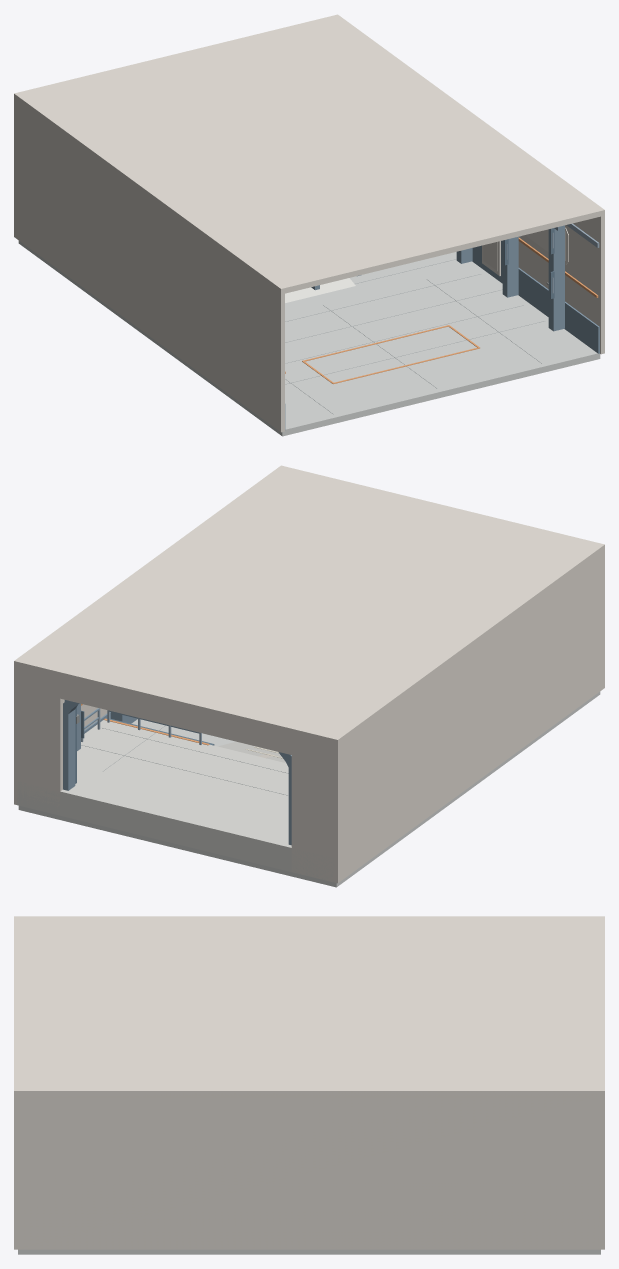
The model's file is Taller_NASA_v02.glb.
3 renders of one model, top to bottom at view 1: azimuth 30°, elevation 25°; view 2: azimuth 150°, elevation 25°; view 3: azimuth 270°, elevation 25°, orthographic. The views are drawn at different scales.
Visible parts, largest first — view 1: Cubierta_Superior.006, Muro_Funcional_IZQ.006, Piso_01_Losa_Inferior_Continua.005, Muro_Funcional_DER.006, Zocalo_Industrial_DER.006, Pórtico_Azul_Redondeado_1.006, Pórtico_Azul_Redondeado_2.006, Rampa_Principal_Meshy.004; view 2: Cubierta_Superior.006, Muro_Funcional_IZQ.006, Piso_02_Plataforma_Superior_Maciza.005, Machón_Portón_IZQ.006, Machón_Portón_DER.006, Muro_Sobre_Portón.006, Piso_01_Losa_Inferior_Continua.005, Marco_Portón_Chaflanes_Redondeados.006; view 3: Cubierta_Superior.006, Muro_Funcional_DER.006, Piso_01_Losa_Inferior_Continua.005, Machón_Portón_DER.006.
Part boxes in pixels (x1,y1,x2,y2): Cubierta_Superior.006: (14,14,604,294); Muro_Funcional_IZQ.006: (14,98,284,432); Piso_01_Losa_Inferior_Continua.005: (18,240,600,436); Muro_Funcional_DER.006: (518,213,604,354); Zocalo_Industrial_DER.006: (472,246,599,353); Pórtico_Azul_Redondeado_1.006: (548,225,564,331); Pórtico_Azul_Redondeado_2.006: (502,237,518,297); Rampa_Principal_Meshy.004: (285,278,355,302); Cubierta_Superior.006: (14,465,604,745); Muro_Funcional_IZQ.006: (334,548,604,882); Piso_02_Plataforma_Superior_Maciza.005: (17,720,333,881); Machón_Portón_IZQ.006: (291,732,340,883); Machón_Portón_DER.006: (14,664,63,813); Muro_Sobre_Portón.006: (60,676,291,754); Piso_01_Losa_Inferior_Continua.005: (18,691,600,887); Marco_Portón_Chaflanes_Redondeados.006: (63,700,291,845); Cubierta_Superior.006: (14,916,604,1097); Muro_Funcional_DER.006: (14,1094,604,1249); Piso_01_Losa_Inferior_Continua.005: (18,1249,600,1254); Machón_Portón_DER.006: (598,1094,604,1249).
Bounding box in the file's own units: 14 × 6.18 × 20.
